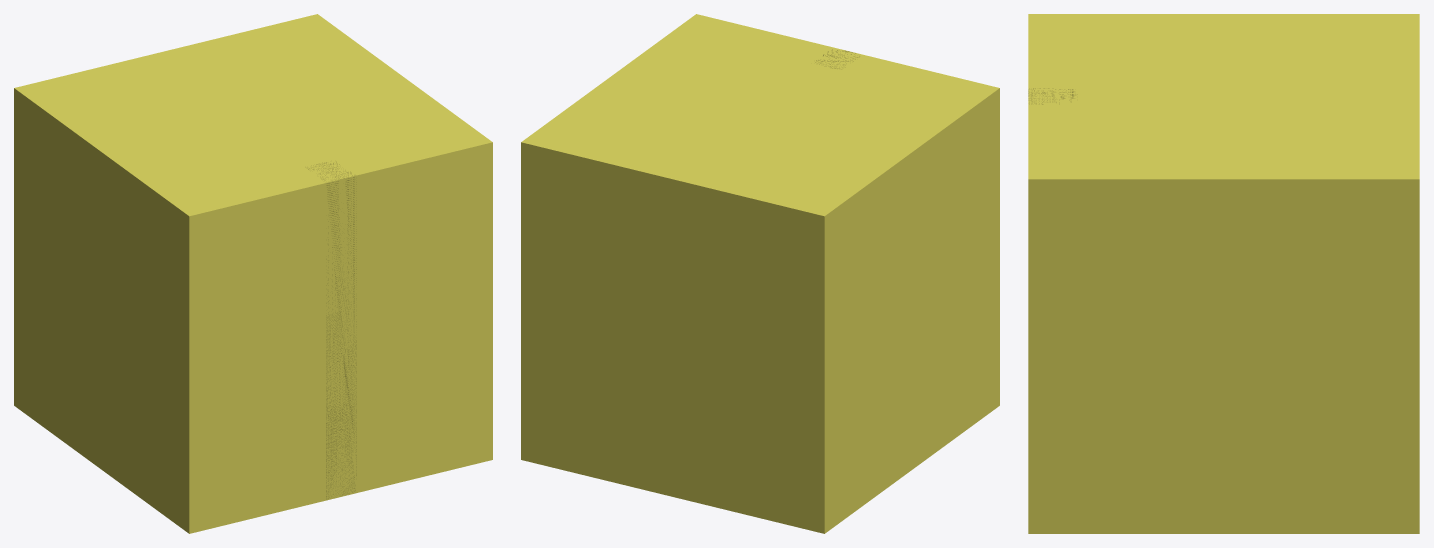
File: box_1_closed.dae
3 views of the same model, side by side, from view 1: azimuth 30°, elevation 25°; view 2: azimuth 150°, elevation 25°; view 3: azimuth 270°, elevation 25° (orthographic). The views are drawn at different scales.
Visible parts, largest first — view 1: coords_ME_ID13_MA_material_27, coords_ME_ID3_MA_material_27, coords_ME_ID3_MA_material_28; view 2: coords_ME_ID13_MA_material_27, coords_ME_ID3_MA_material_27; view 3: coords_ME_ID13_MA_material_27, coords_ME_ID3_MA_material_27.
Part boxes in pixels (<box>): coords_ME_ID13_MA_material_27: <box>14,14,492,533</box>; coords_ME_ID3_MA_material_27: <box>304,159,356,500</box>; coords_ME_ID3_MA_material_28: <box>305,161,356,499</box>; coords_ME_ID13_MA_material_27: <box>521,14,999,533</box>; coords_ME_ID3_MA_material_27: <box>811,47,862,70</box>; coords_ME_ID13_MA_material_27: <box>1028,14,1419,533</box>; coords_ME_ID3_MA_material_27: <box>1028,88,1077,104</box>.
Size of the model in its own units: 4.72 by 4.72 by 4.72.
